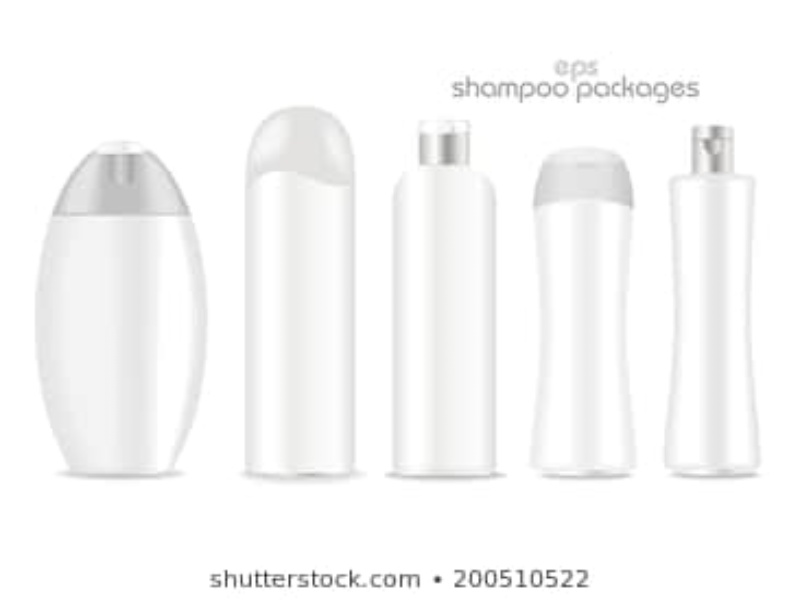shampoo-bottle: (31, 140, 211, 481), (240, 105, 360, 480), (389, 114, 503, 482), (528, 145, 634, 481), (665, 119, 757, 482)
